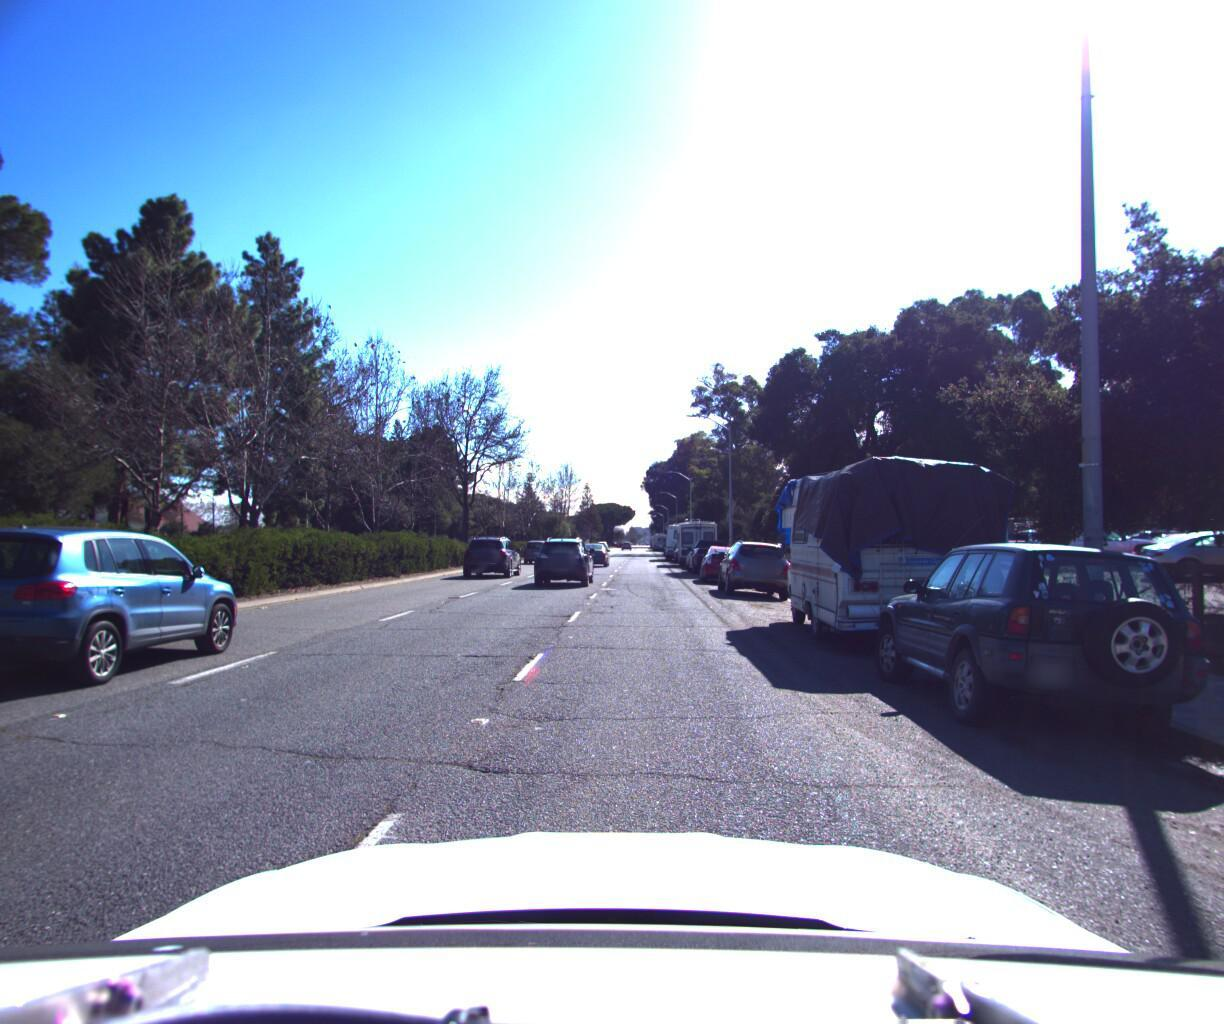car: (853, 509, 1224, 773), (1000, 513, 1163, 564), (960, 519, 1098, 563), (710, 532, 800, 598), (1125, 522, 1224, 577), (531, 531, 596, 584), (463, 530, 523, 575), (694, 538, 747, 581), (682, 531, 736, 571), (518, 531, 553, 560), (580, 537, 613, 561)
other_vehicle: (767, 447, 1037, 667), (668, 510, 720, 562), (660, 515, 698, 556)
